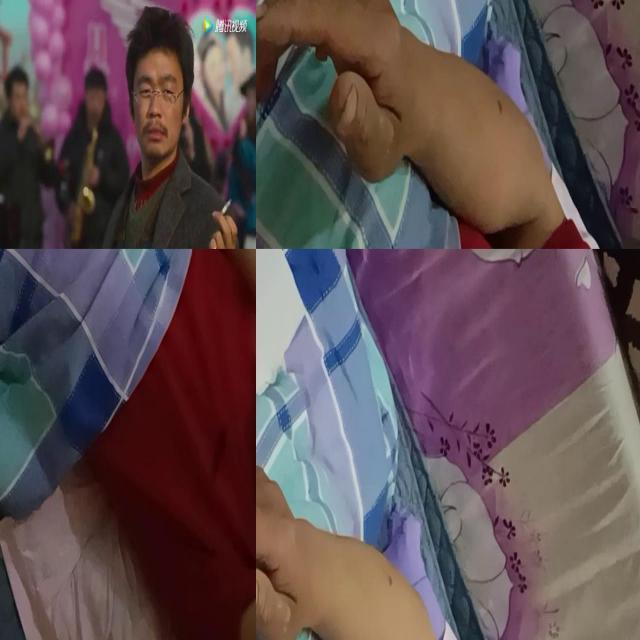cigarette: (314, 0, 343, 61), (219, 198, 233, 218)
